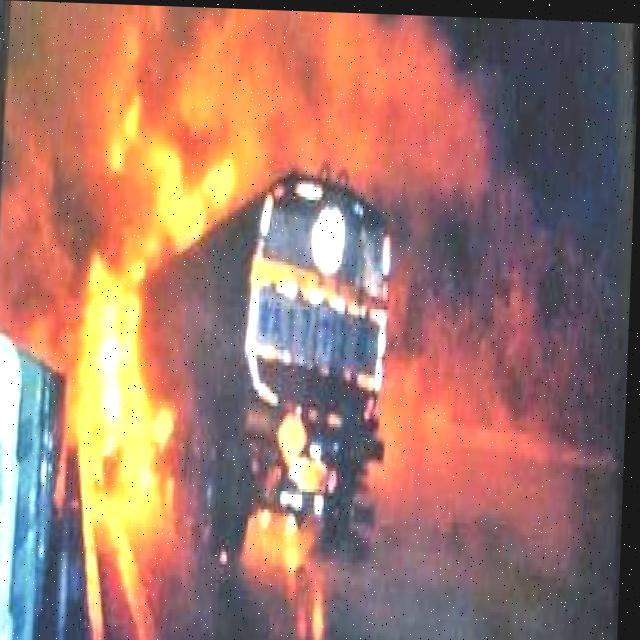Fire: (65, 116, 246, 554)
